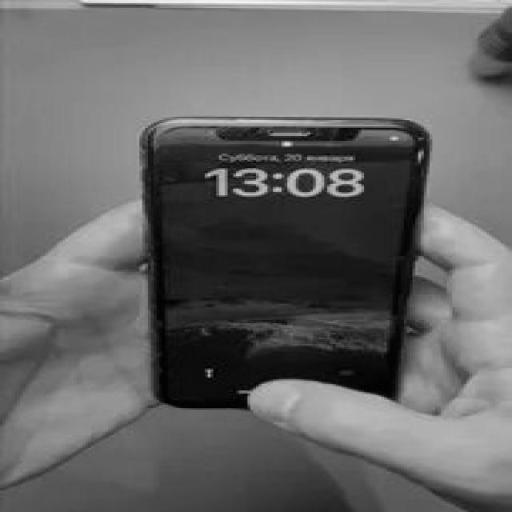phone: (137, 108, 430, 415)
